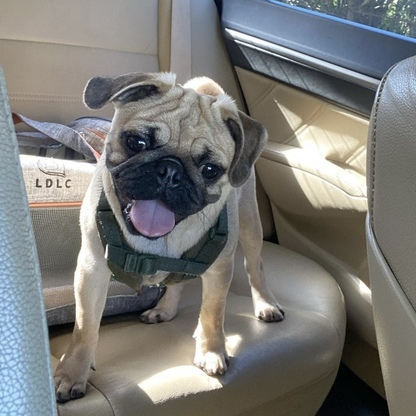Pug: (48, 62, 289, 404)
